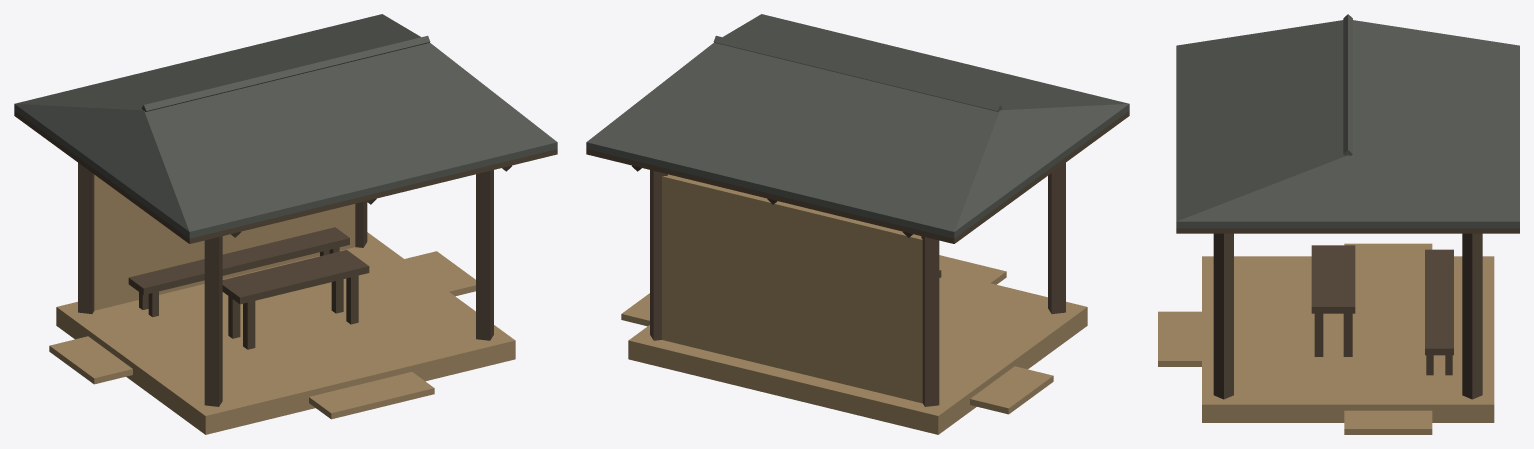
Rendered from guard-unit-LOD2.glb.
The picture shows the model from 3 angles, left to right: view 1: azimuth 30°, elevation 25°; view 2: azimuth 150°, elevation 25°; view 3: azimuth 270°, elevation 25°; orthographic projection.
Visible parts, largest first — view 1: guard-unit-unit-tile, guard-unit-unit-earth, guard-unit-unit-timber; view 2: guard-unit-unit-earth, guard-unit-unit-tile, guard-unit-unit-timber; view 3: guard-unit-unit-tile, guard-unit-unit-earth, guard-unit-unit-timber.
Part boxes in pixels (box(x1,y1,x2,y2)): guard-unit-unit-tile: box(14, 14, 557, 238); guard-unit-unit-earth: box(49, 175, 515, 434); guard-unit-unit-timber: box(14, 111, 557, 406); guard-unit-unit-earth: box(621, 174, 1087, 434); guard-unit-unit-tile: box(586, 14, 1129, 238); guard-unit-unit-timber: box(586, 111, 1129, 406); guard-unit-unit-tile: box(1176, 14, 1519, 228); guard-unit-unit-earth: box(1158, 243, 1494, 434); guard-unit-unit-timber: box(1176, 228, 1519, 399).
Bounding box in the file's own units: 6 × 4.03 × 4.95.
